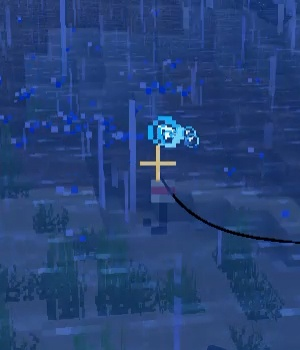down: (140, 175, 180, 232)
